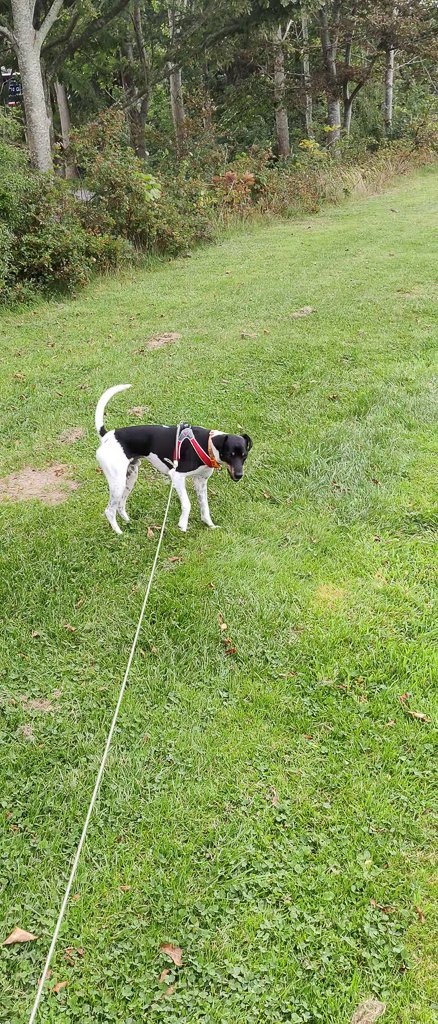Dog: (82, 373, 260, 545)
